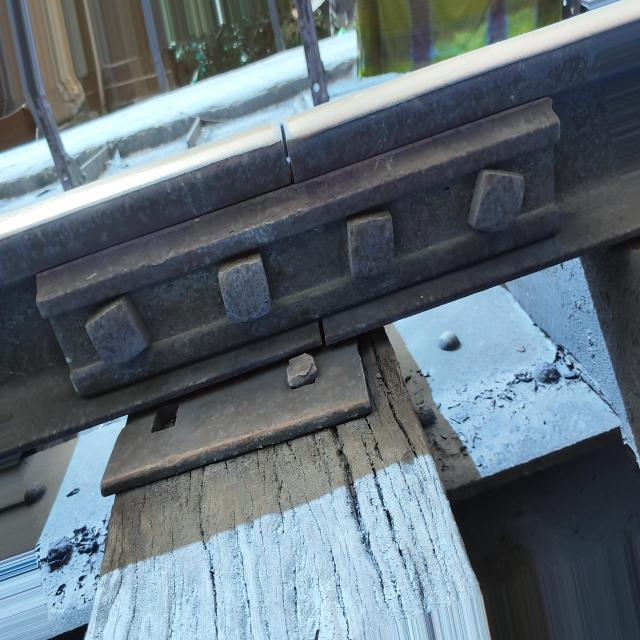Good Fasteners: (287, 353, 317, 389)
Good Joint: (34, 94, 561, 393)
Missing Dogscrew: (151, 402, 179, 433)
